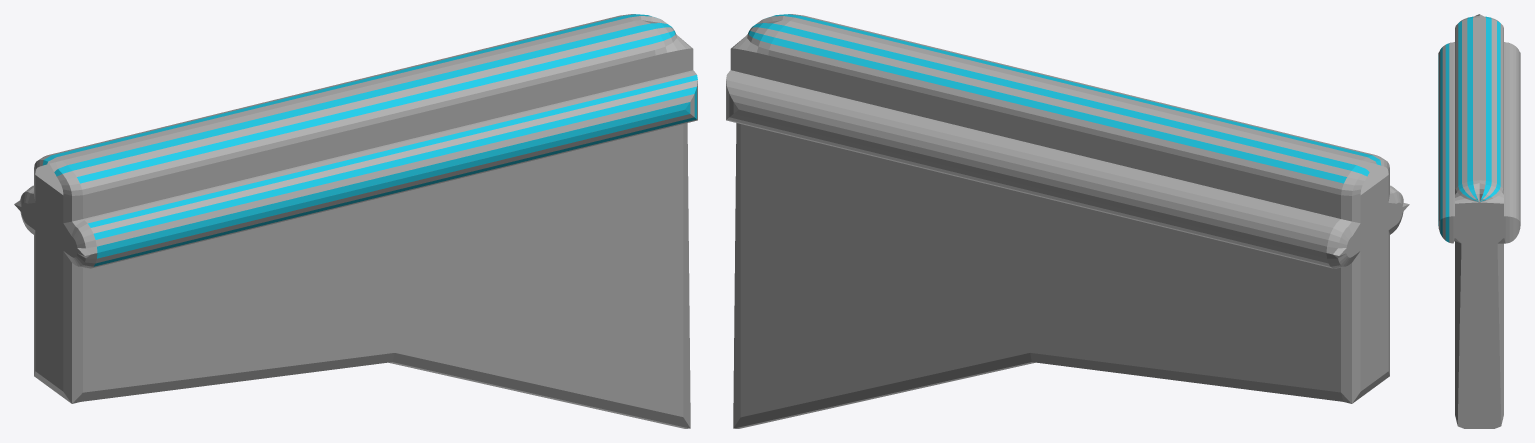
Rendered from shotgun.fbx.
3 views of the same model, side by side, from view 1: azimuth 30°, elevation 25°; view 2: azimuth 150°, elevation 25°; view 3: azimuth 270°, elevation 25° (orthographic). The views are drawn at different scales.
Parts seen in each view (by area): view 1: Cube; view 2: Cube; view 3: Cube.
Boxes of the visible parts, left/top/right/bottom form: Cube: left=14, top=14, right=697, bottom=428; Cube: left=726, top=14, right=1409, bottom=428; Cube: left=1438, top=14, right=1520, bottom=428.
Size of the model in its own units: 1007 by 630 by 198.
